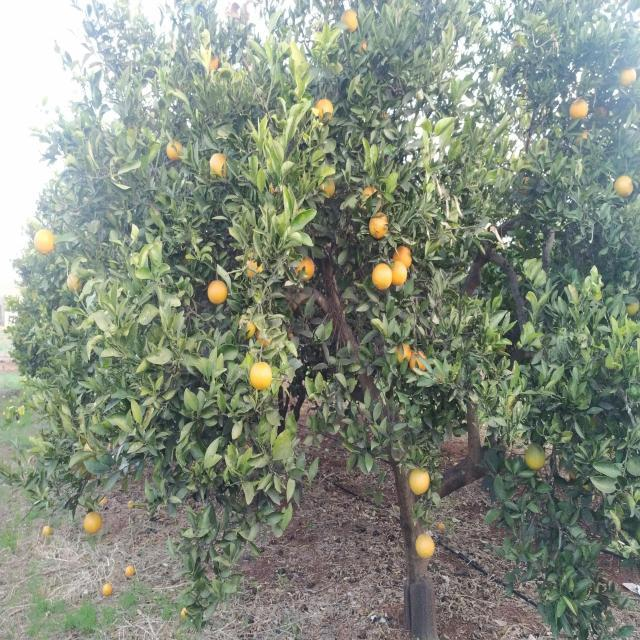Jeruk Belum Matang: (523, 442, 546, 470), (624, 298, 640, 316)
Jeruk Sudah Matang: (250, 362, 273, 392), (368, 210, 389, 238), (209, 152, 229, 180), (410, 468, 430, 496), (372, 263, 392, 291), (34, 229, 54, 255), (416, 534, 436, 560), (207, 280, 228, 304), (296, 256, 315, 280), (614, 176, 634, 197), (83, 512, 102, 534), (569, 98, 588, 120), (246, 255, 264, 278), (409, 350, 427, 373), (341, 8, 358, 32), (362, 186, 380, 208), (316, 98, 334, 120), (394, 246, 412, 268), (390, 262, 407, 285), (238, 318, 256, 338), (619, 68, 637, 87), (166, 140, 183, 160), (396, 342, 410, 364), (321, 178, 336, 198), (68, 274, 82, 292), (208, 57, 218, 72)
